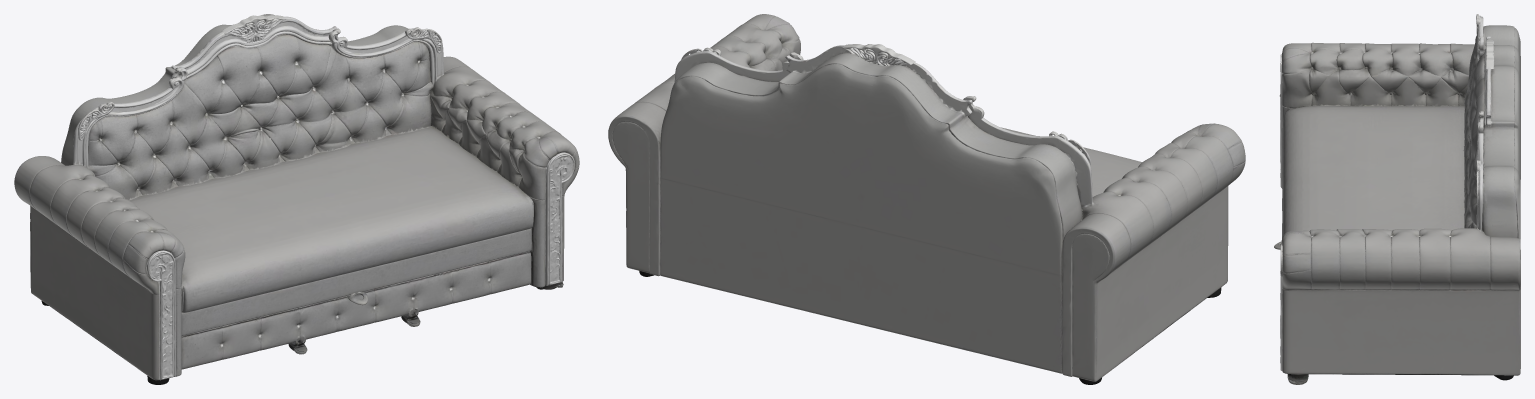
File: Rusalka.glb
3 views of the same model, side by side, from view 1: azimuth 30°, elevation 25°; view 2: azimuth 150°, elevation 25°; view 3: azimuth 270°, elevation 25° (orthographic). The views are drawn at different scales.
Visible parts, largest first — view 1: tripo_node_bc6d2237-1482-4cb4-b7f2-5f615acfd9e4; view 2: tripo_node_bc6d2237-1482-4cb4-b7f2-5f615acfd9e4; view 3: tripo_node_bc6d2237-1482-4cb4-b7f2-5f615acfd9e4.
Part boxes in pixels (x1,y1,x2,y2): tripo_node_bc6d2237-1482-4cb4-b7f2-5f615acfd9e4: [14, 14, 579, 384]; tripo_node_bc6d2237-1482-4cb4-b7f2-5f615acfd9e4: [608, 14, 1245, 384]; tripo_node_bc6d2237-1482-4cb4-b7f2-5f615acfd9e4: [1274, 14, 1520, 384].
Bounding box in the file's own units: 0.9793 × 0.5118 × 0.479.
Materials: 1 (1 with a texture image).
